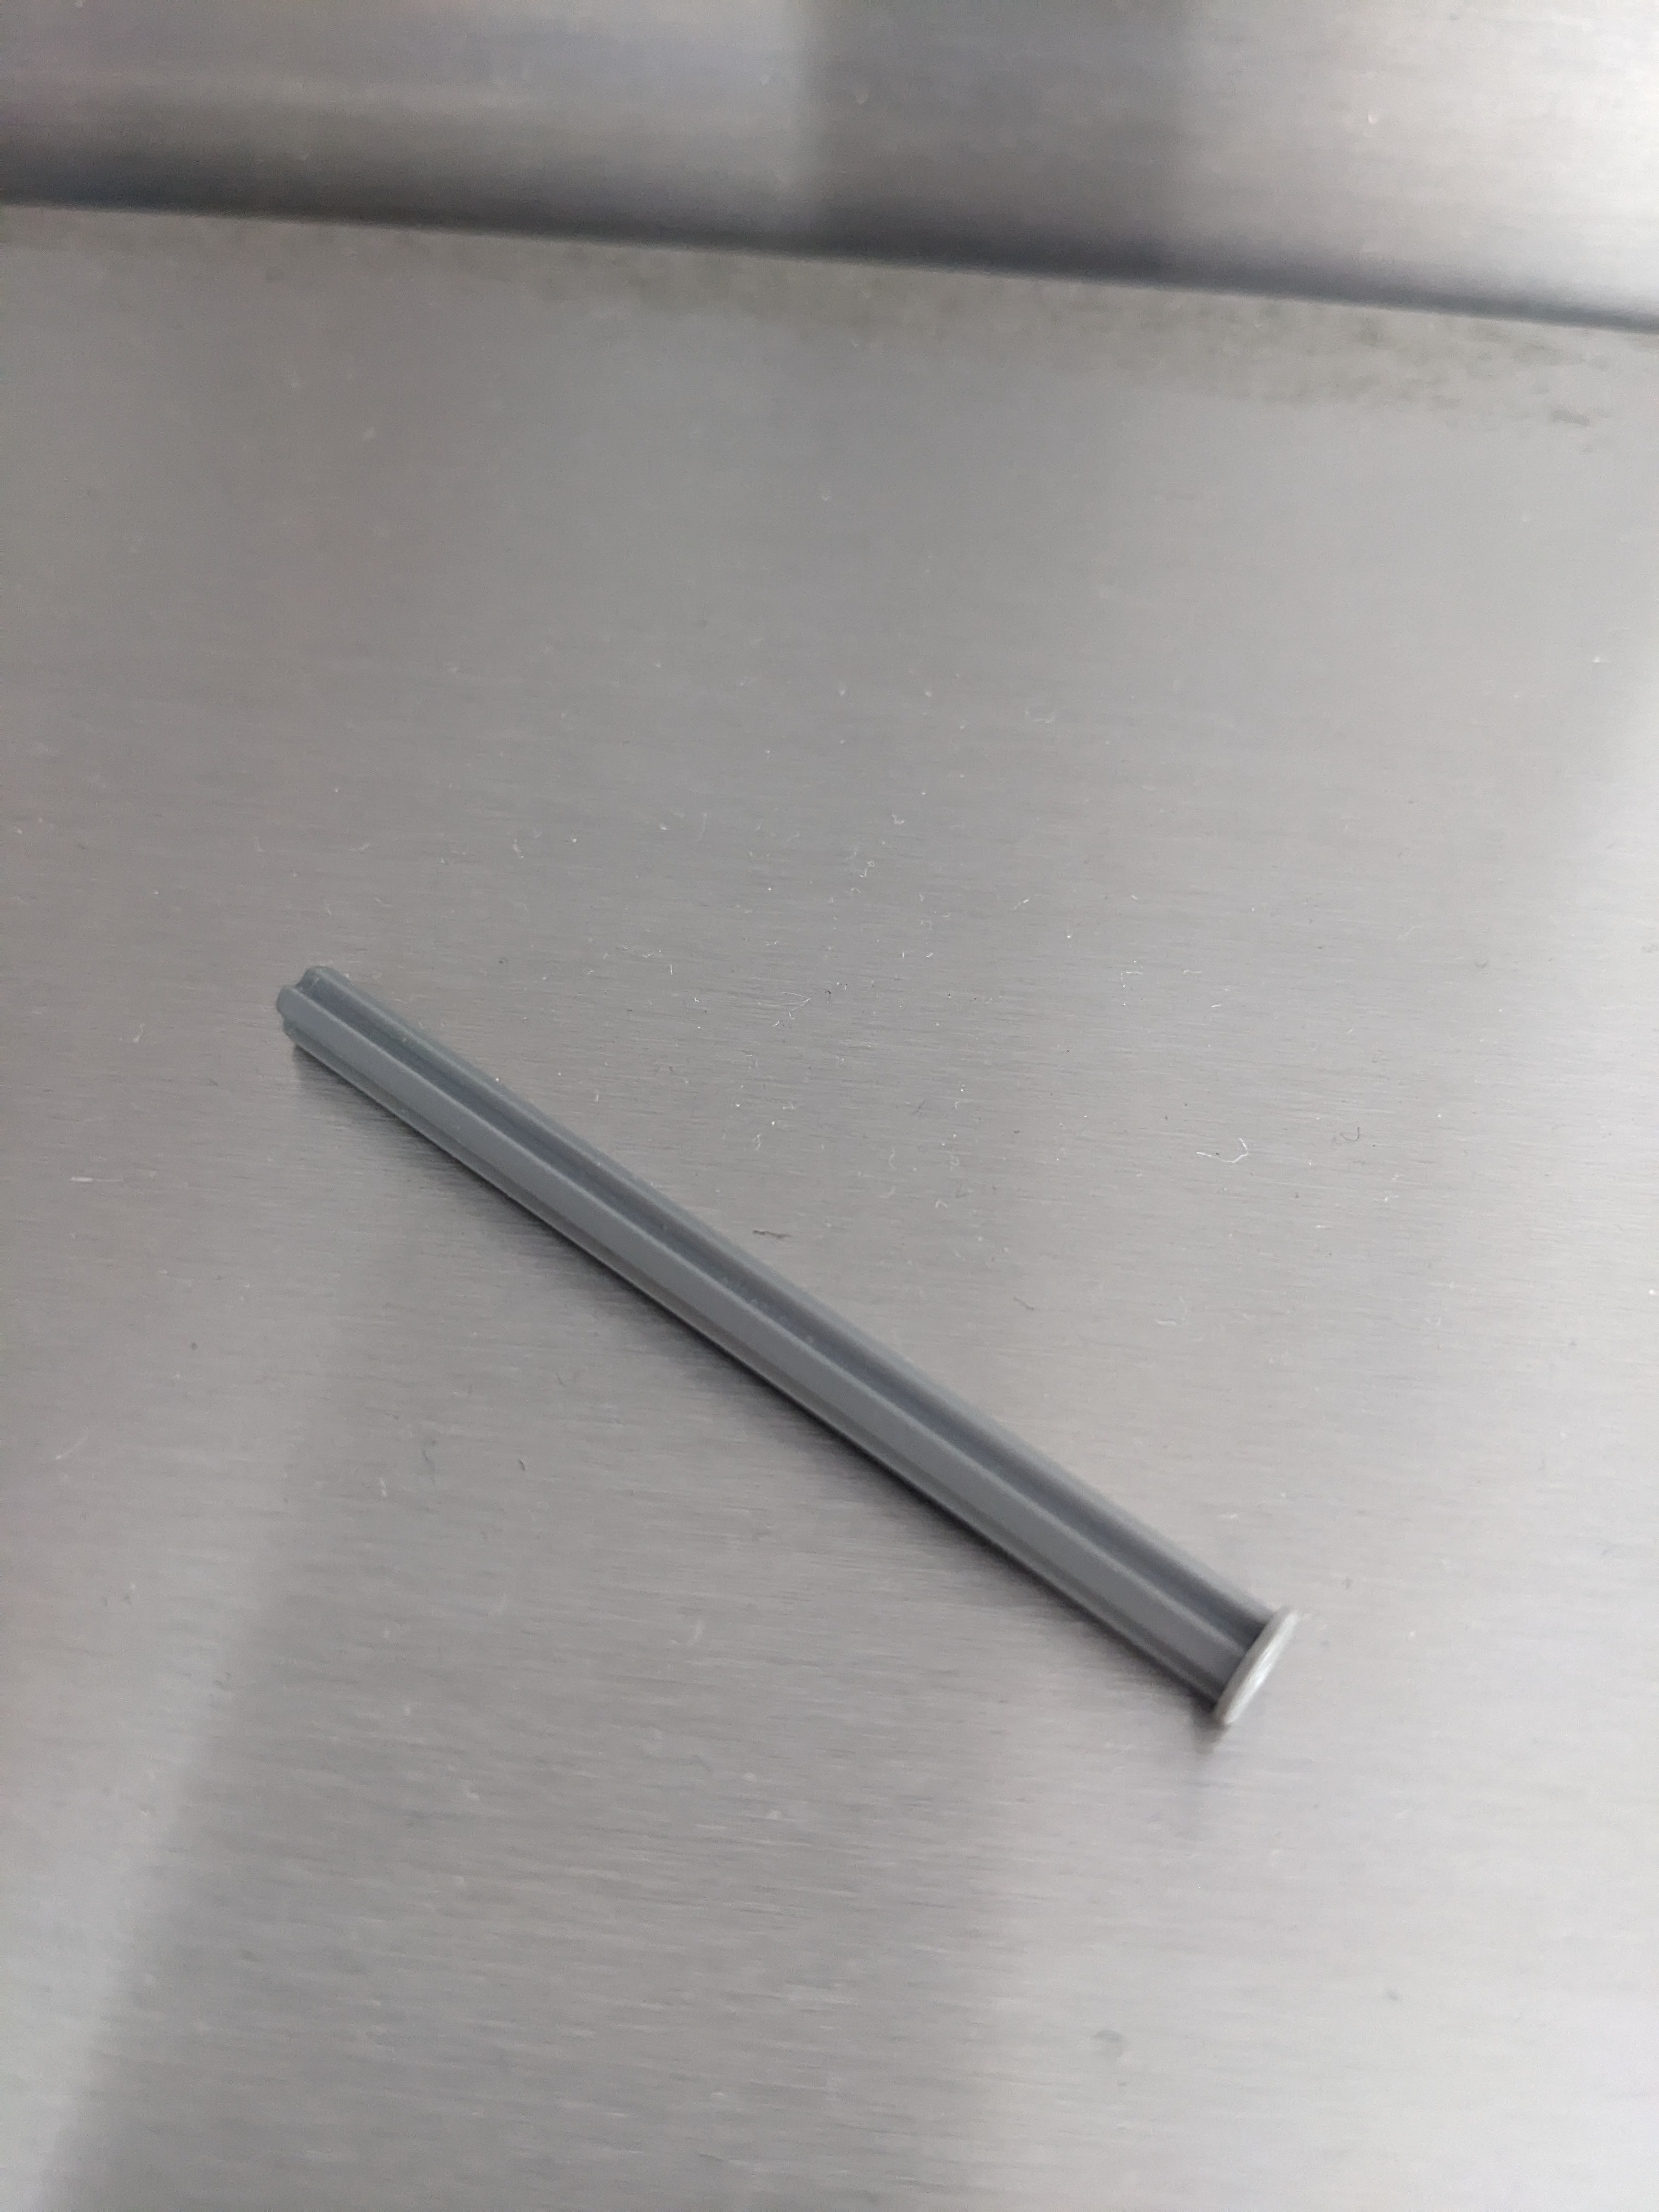Grau_lang: (239, 927, 1319, 1784)
